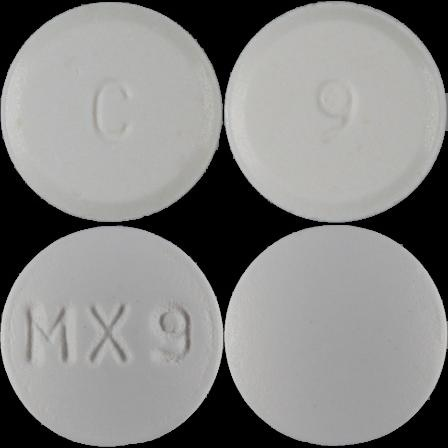68012-258: (0, 0, 224, 224)
